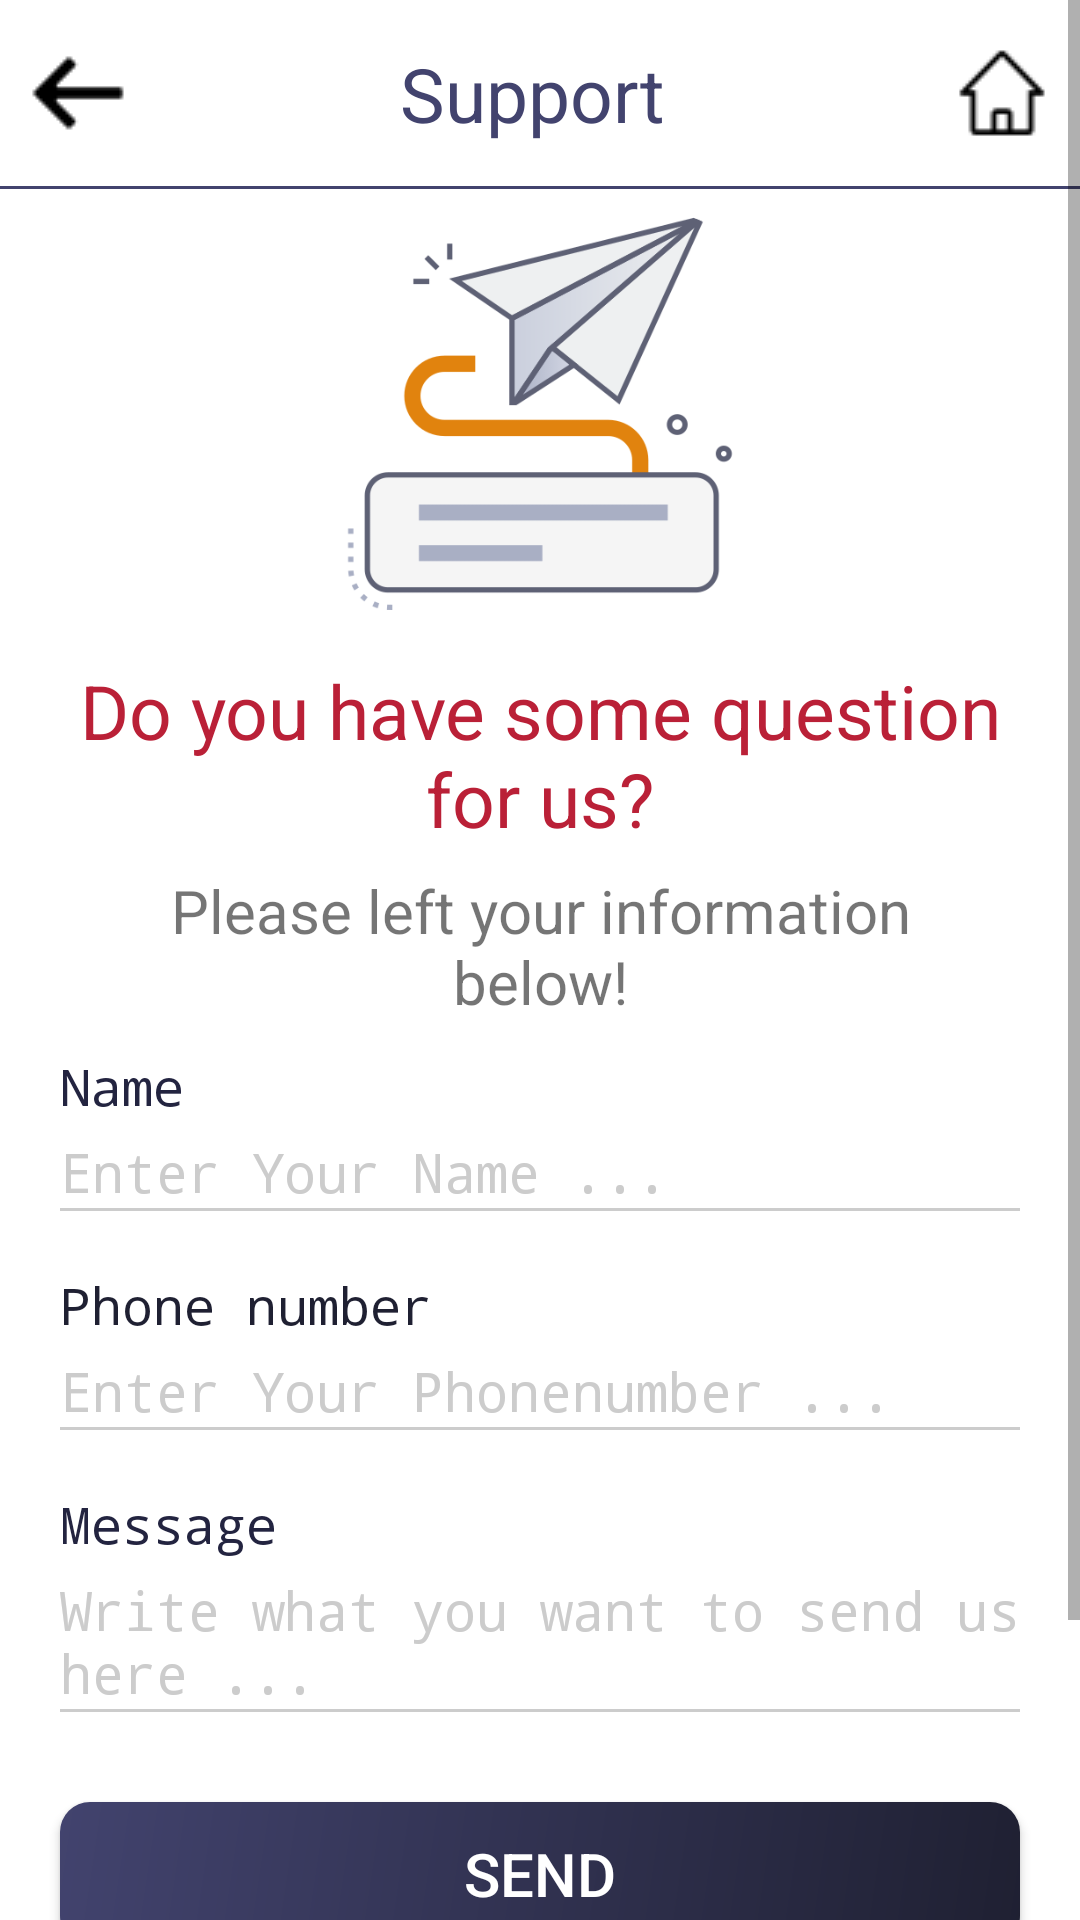

Screen size 1080 x 1920. Icon name, then its box in pixels as (x1, y1, x2, y2):
back: (32, 56, 124, 130)
homep: (959, 50, 1045, 136)
